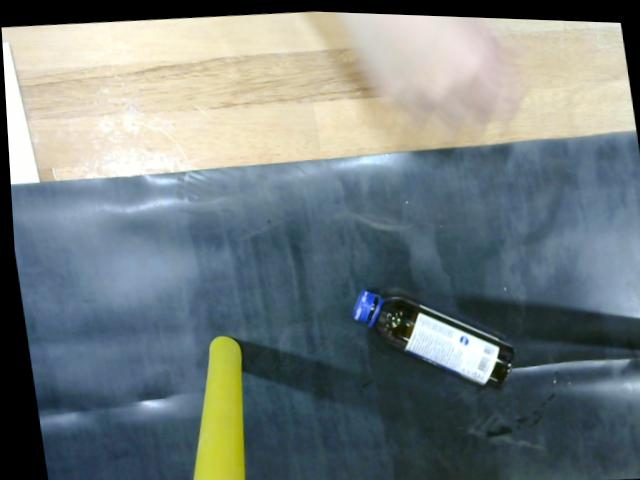glass: (336, 283, 519, 397)
